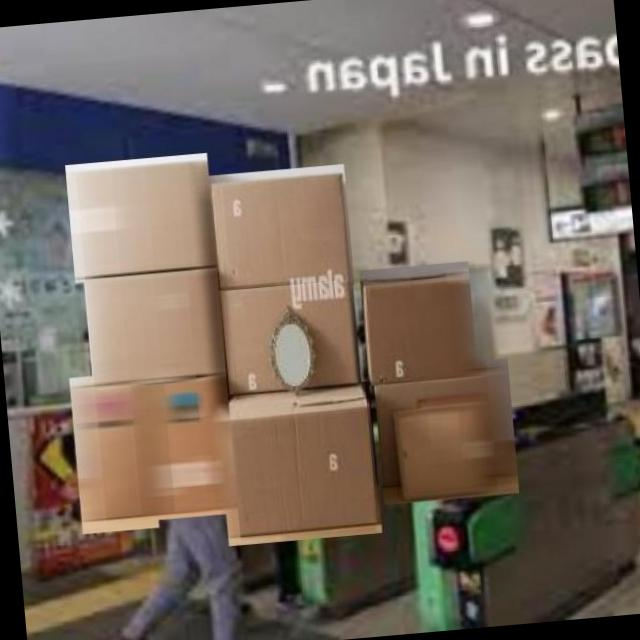box: (212, 378, 384, 550), (368, 354, 522, 508), (62, 152, 220, 286), (202, 162, 356, 299), (212, 272, 364, 402), (80, 269, 226, 391), (356, 260, 480, 388), (66, 369, 160, 536), (142, 368, 238, 524)
